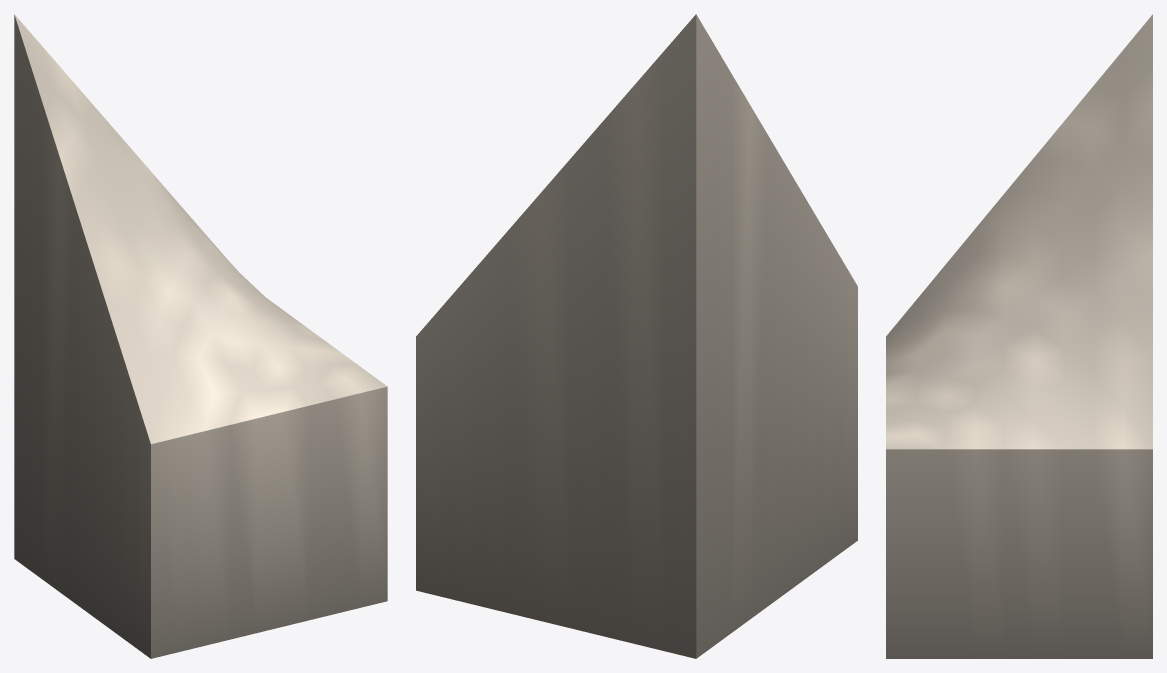
Rendered from SM_VKI_Rock_Cave_CCCF_A.fbx.
3 views of the same model, side by side, from view 1: azimuth 30°, elevation 25°; view 2: azimuth 150°, elevation 25°; view 3: azimuth 270°, elevation 25° (orthographic). The views are drawn at different scales.
Visible parts, largest first — view 1: SM_VKI_Rock_Cave_CCCF_A.001; view 2: SM_VKI_Rock_Cave_CCCF_A.001; view 3: SM_VKI_Rock_Cave_CCCF_A.001.
Boxes of the visible parts, box(x1,y1,x2,y2) form: SM_VKI_Rock_Cave_CCCF_A.001: box(14, 14, 387, 658); SM_VKI_Rock_Cave_CCCF_A.001: box(416, 14, 857, 658); SM_VKI_Rock_Cave_CCCF_A.001: box(886, 14, 1152, 658).
Bounding box in the file's own units: 1.5 × 3.3 × 1.5.
